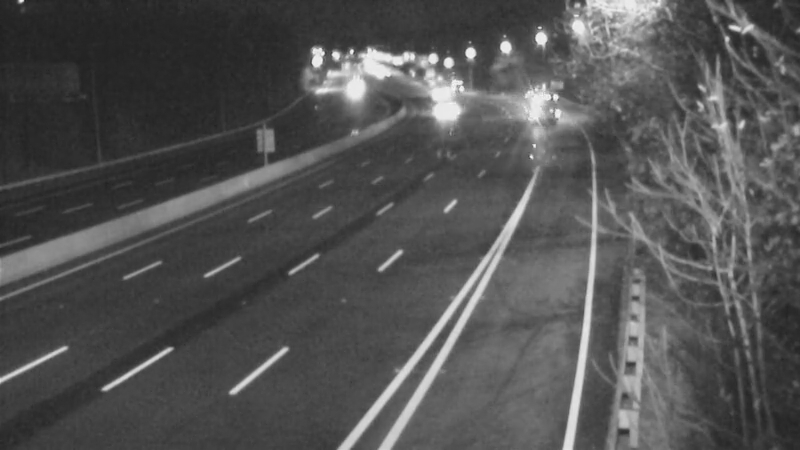vehicle: (431, 59, 481, 109), (416, 64, 466, 114), (508, 74, 558, 124), (425, 82, 475, 132), (326, 57, 376, 107)
